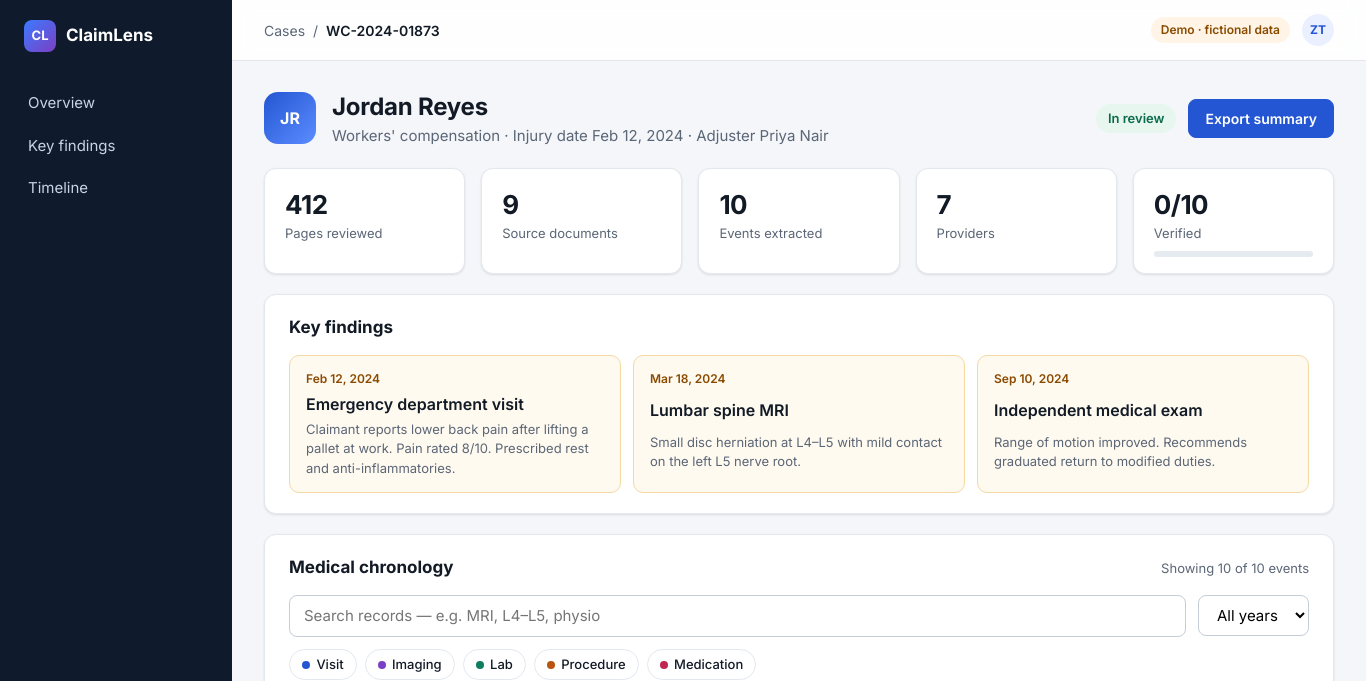
Test: App › filters the timeline when the user searches
The width and height of the screenshot is (1366, 681).
Check: the heading "Jordan Reyes" is shown, box [332,92,488,121]
Type "MRI" into the search field labelled "Search records".
click(738, 616); type("MRI")  # box [289,594,1186,637]
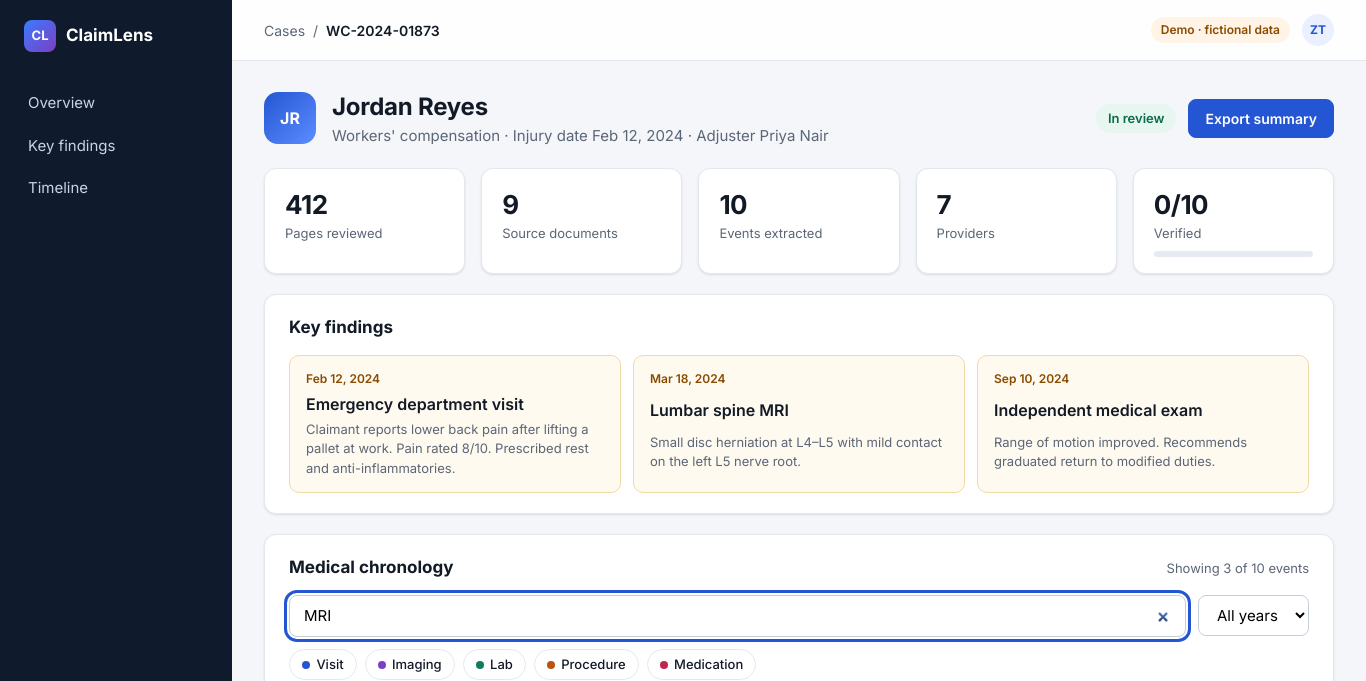
Check: the text "Showing 3 of 10 events" is shown, box [1167,559,1309,578]
Replace the text in the search field named "Search records" with "zzz" at {"x": 738, "y": 616}, box [289,594,1186,637]
(page scrolled)
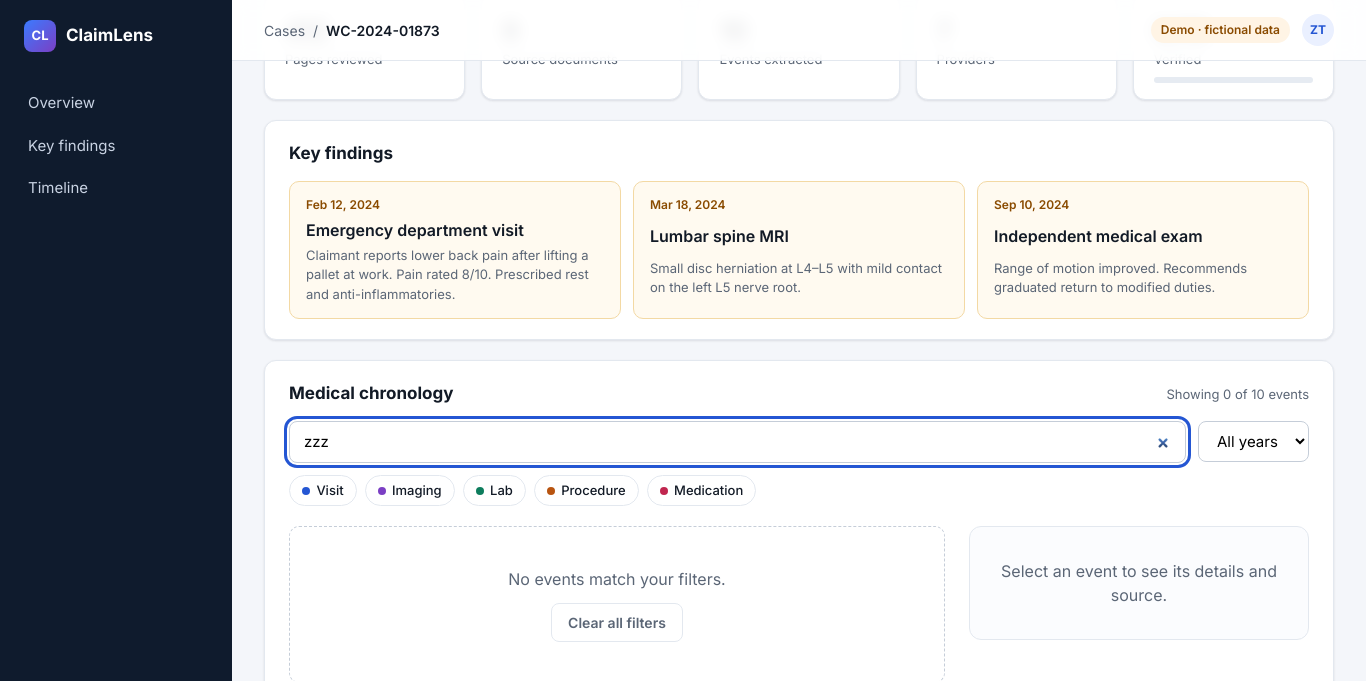
Click the button "Clear all filters".
click(617, 623)  # box [551,603,683,642]
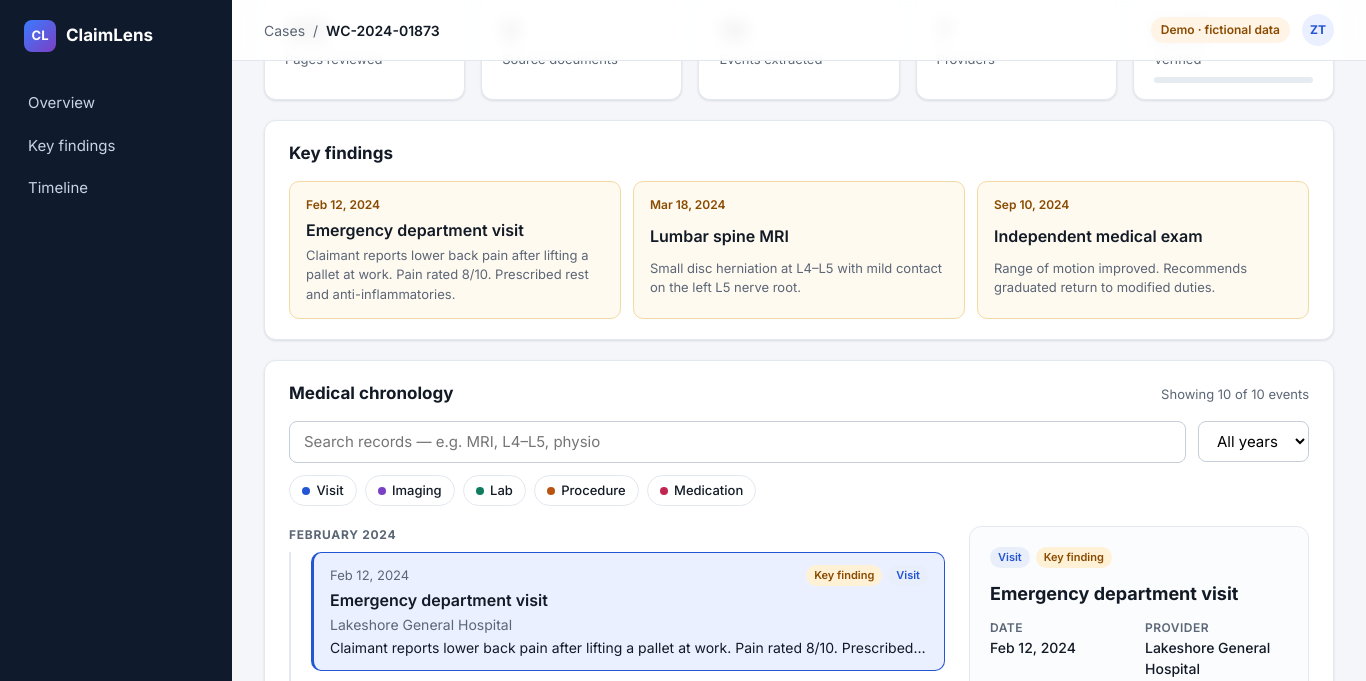
Check: the text "Showing 10 of 10 events" is shown, box [1161,385,1309,404]
